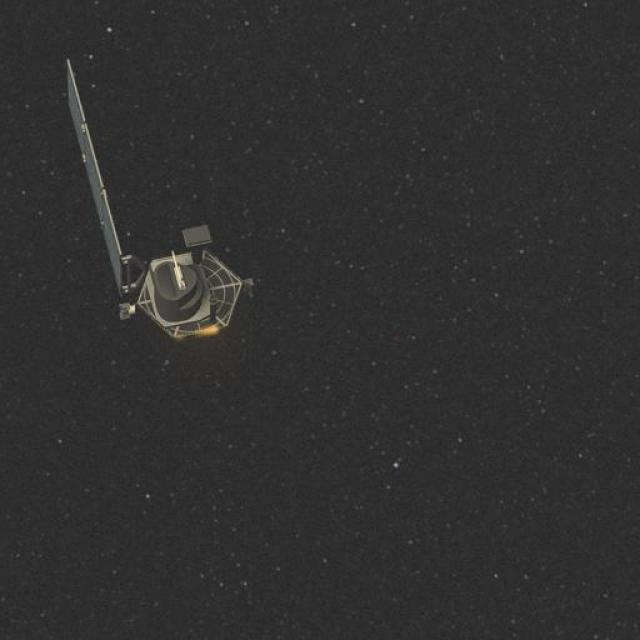earth_observation_sat_1: (91, 203, 273, 362)
